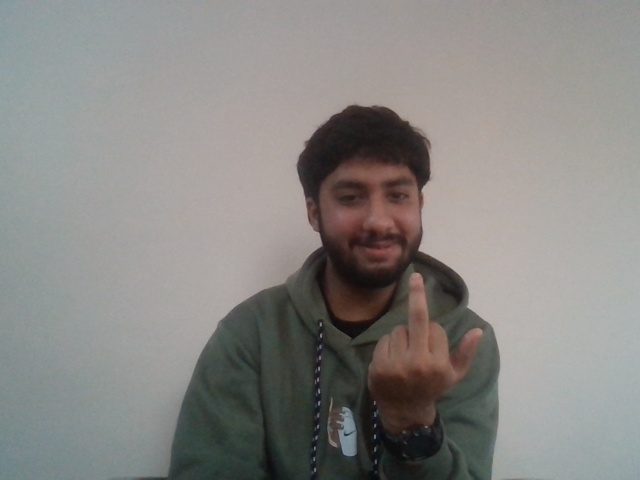Hello: (363, 270, 490, 405)
